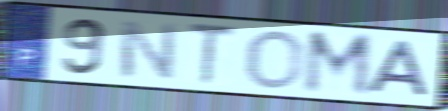9: (61, 17, 105, 76)
A: (365, 38, 433, 99)
M: (301, 30, 375, 100)
N: (117, 18, 179, 82)
O: (242, 28, 306, 91)
T: (188, 21, 239, 88)
